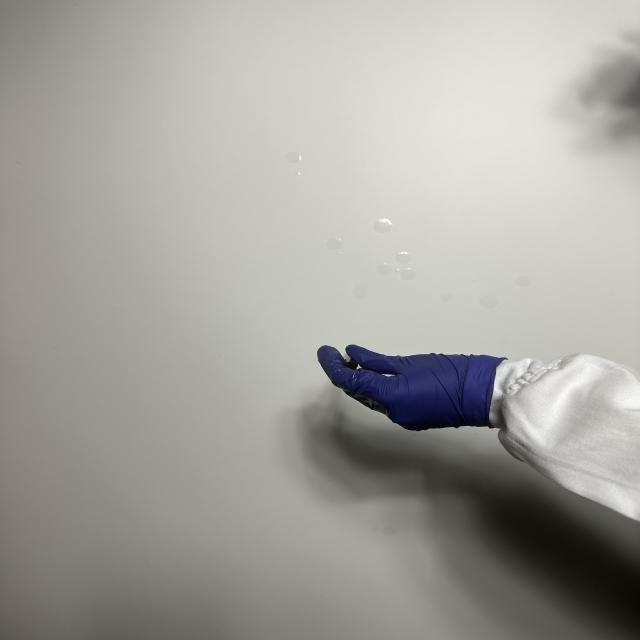gloves_contaminated: (318, 345, 504, 430)
